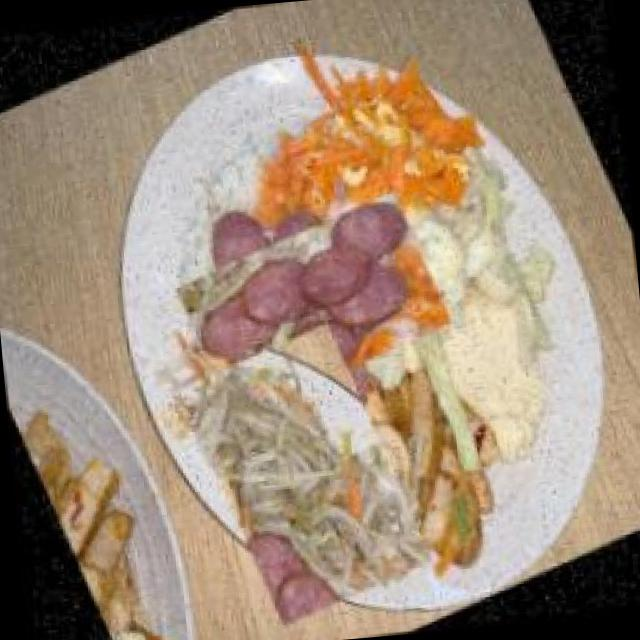carrot_eggs: (252, 34, 510, 304)
chinese_sausage: (180, 170, 449, 439)
mung_bean_sprouts: (170, 312, 439, 637)
